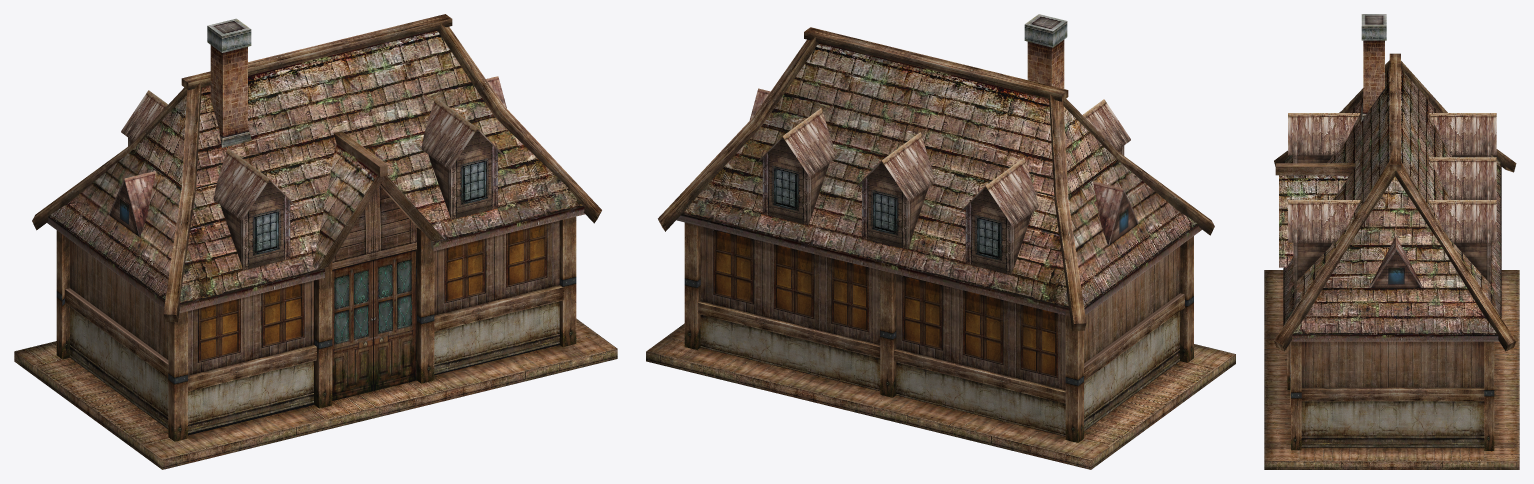
File: building1.FBX
3 views of the same model, side by side, from view 1: azimuth 30°, elevation 25°; view 2: azimuth 150°, elevation 25°; view 3: azimuth 270°, elevation 25° (orthographic). The views are drawn at different scales.
Visible parts, largest first — view 1: Object002, Object004, Object003; view 2: Object002, Object004, Object003; view 3: Object003, Object004, Object002.
Part boxes in pixels (x1,y1,x2,y2): Object002: [32, 14, 601, 441]; Object004: [47, 29, 584, 313]; Object003: [14, 18, 617, 469]; Object002: [658, 27, 1214, 442]; Object004: [676, 42, 1201, 316]; Object003: [646, 14, 1235, 469]; Object003: [1264, 14, 1519, 469]; Object004: [1279, 68, 1501, 341]; Object002: [1274, 53, 1516, 450].
Size of the model in its own units: 417 by 321 by 235.
Materials: 3 (3 with a texture image).
